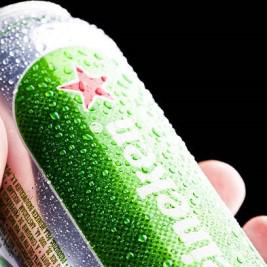beer: (1, 1, 266, 266)
